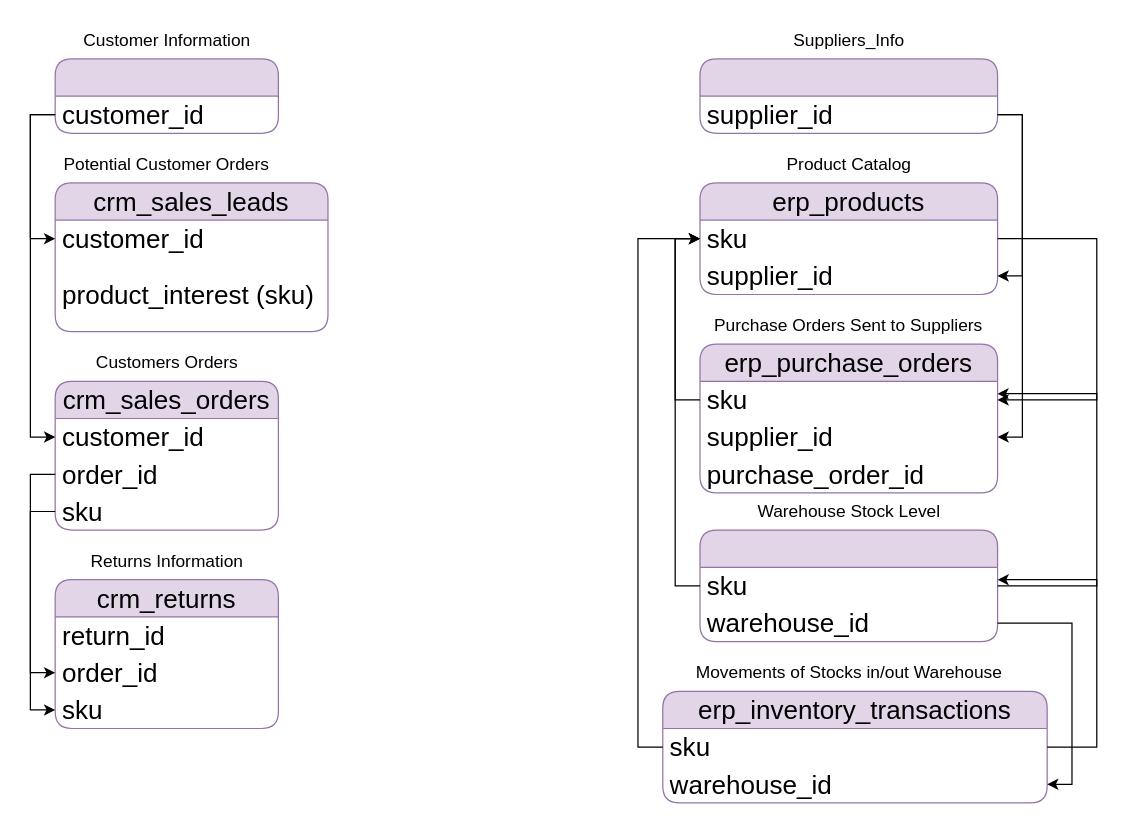
Some shapes in this 1128 by 825 pixel diagram are drawn without their labels. The shapes that lost their labels are listed below. From the top down, each one's box as (x1, y1, x2, y2) in pixels, then its label:
(54, 58, 278, 133): crm_customers
(699, 58, 998, 133): erp_suppliers
(699, 529, 998, 642): erp_inventory
